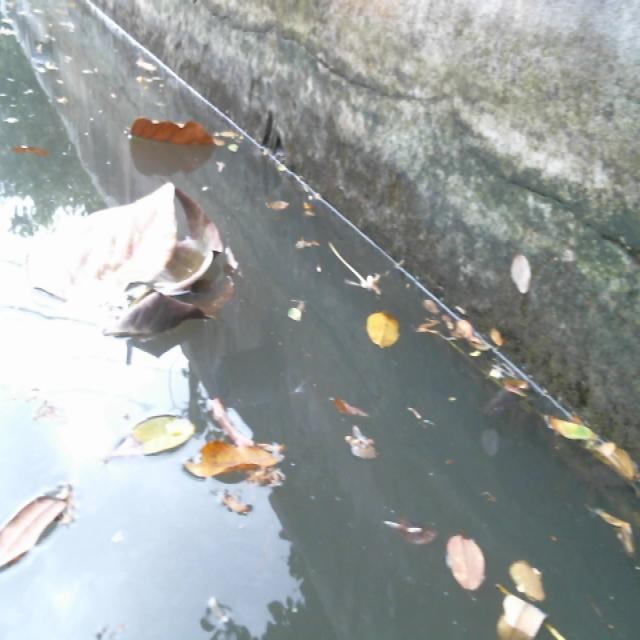Big-leaf: (89, 194, 239, 337), (38, 181, 198, 310), (191, 391, 304, 506), (121, 104, 217, 147)
Small-leaf: (0, 479, 83, 584), (96, 415, 191, 471), (436, 528, 489, 606), (485, 593, 558, 640), (585, 502, 640, 558), (385, 512, 446, 559), (361, 304, 409, 362), (340, 430, 394, 478), (598, 434, 640, 494), (326, 392, 388, 425), (508, 562, 551, 601), (550, 406, 592, 444), (134, 55, 166, 91), (0, 147, 62, 165), (295, 234, 328, 263), (288, 294, 314, 327), (455, 316, 482, 344), (267, 195, 292, 212)
